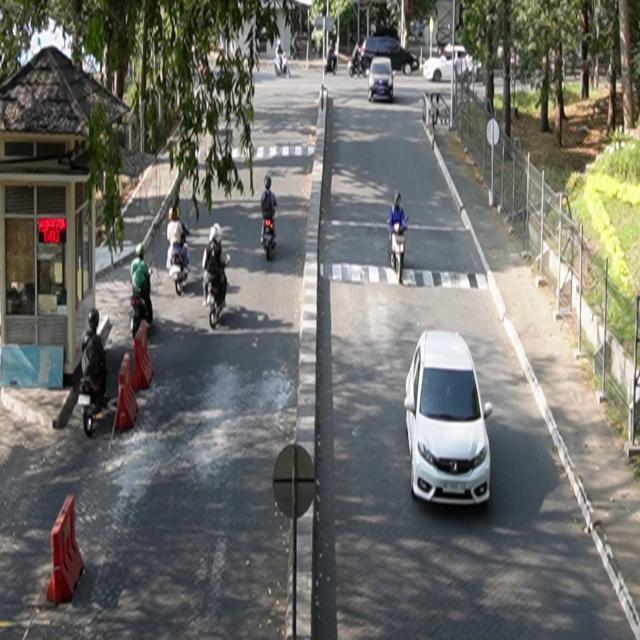car: (405, 329, 494, 507), (423, 44, 479, 83), (369, 57, 395, 103)
